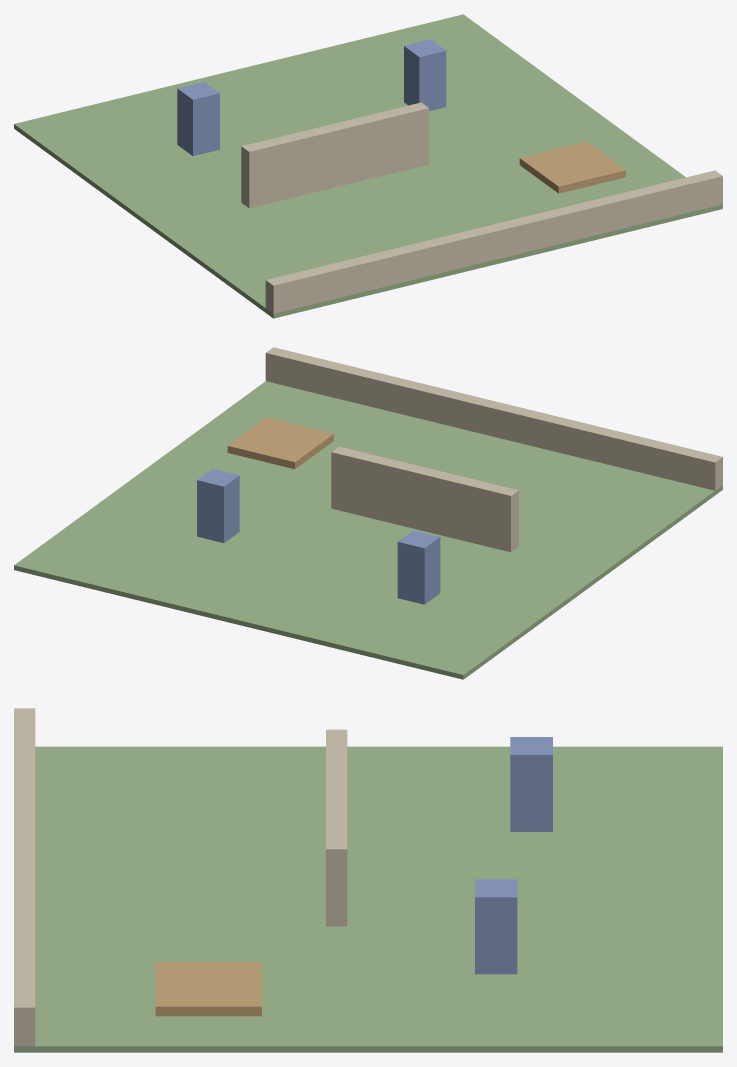
The model's file is level.obj.
3 renders of one model, top to bottom at view 1: azimuth 30°, elevation 25°; view 2: azimuth 150°, elevation 25°; view 3: azimuth 270°, elevation 25°, orthographic. The views are drawn at different scales.
Visible parts, largest first — view 1: floor0, wall2, wall1, step5, pillar4, pillar3; view 2: floor0, wall2, wall1, step5, pillar4, pillar3; view 3: floor0, wall2, step5, wall1, pillar3, pillar4.
Part boxes in pixels (left/top/right/bottom): floor0: left=14, top=14, right=722, bottom=318; wall2: left=265, top=170, right=722, bottom=313; wall1: left=241, top=102, right=428, bottom=208; step5: left=519, top=142, right=625, bottom=193; pillar4: left=177, top=82, right=219, bottom=156; pillar3: left=404, top=39, right=446, bottom=111; floor0: left=14, top=381, right=722, bottom=679; wall2: left=265, top=347, right=722, bottom=490; wall1: left=331, top=446, right=518, bottom=552; step5: left=227, top=417, right=333, bottom=469; pillar4: left=397, top=530, right=440, bottom=604; pillar3: left=197, top=469, right=239, bottom=542; floor0: left=14, top=746, right=722, bottom=1052; wall2: left=14, top=708, right=35, bottom=1046; step5: left=155, top=962, right=261, bottom=1016; wall1: left=326, top=729, right=347, bottom=926; pillar3: left=475, top=879, right=517, bottom=974; pillar4: left=510, top=737, right=552, bottom=831.
Size of the model in its own units: 20 by 2.6 by 20.
